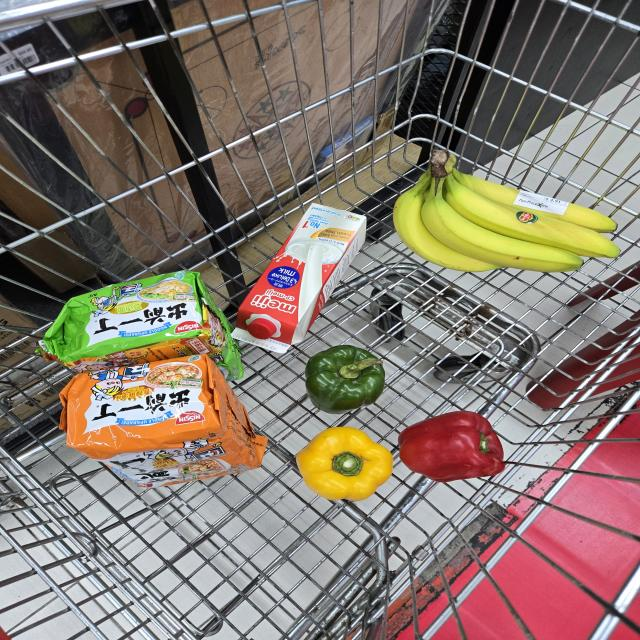banana: (385, 148, 633, 278)
bell-pepper: (402, 404, 509, 481), (293, 425, 401, 498), (301, 343, 388, 415)
instant-noodle: (50, 347, 275, 488), (34, 269, 250, 378)
milk: (228, 195, 374, 356)
